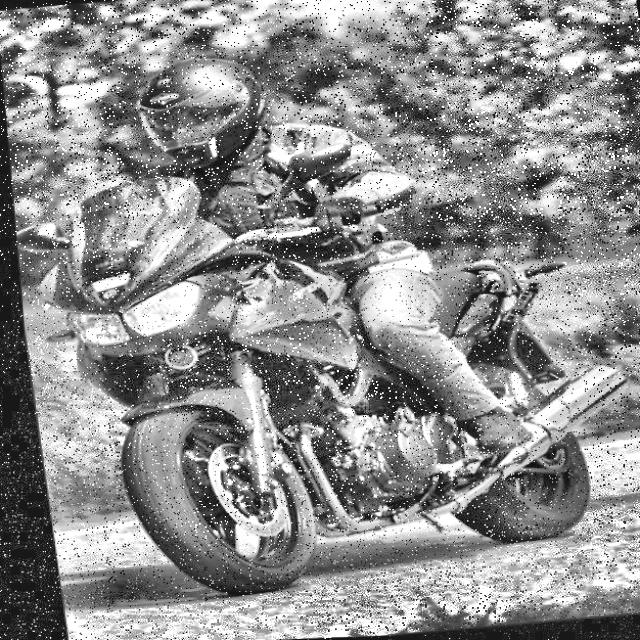Helmet: (124, 50, 276, 178)
